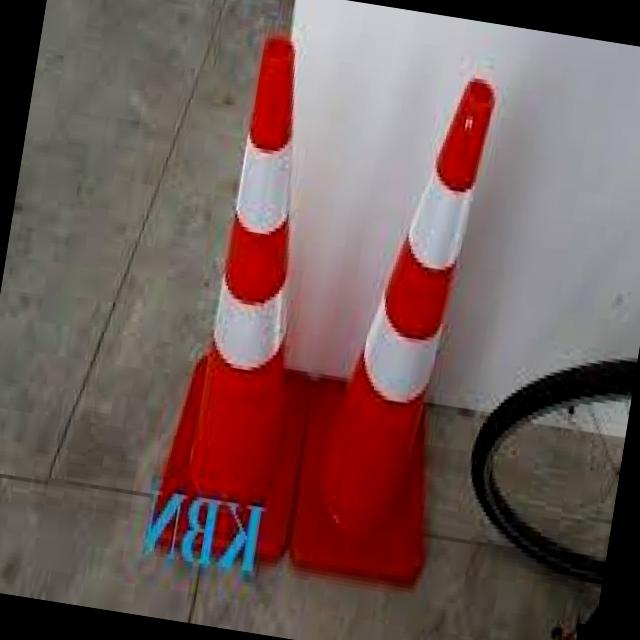cone: (144, 28, 364, 574), (287, 57, 503, 580)
